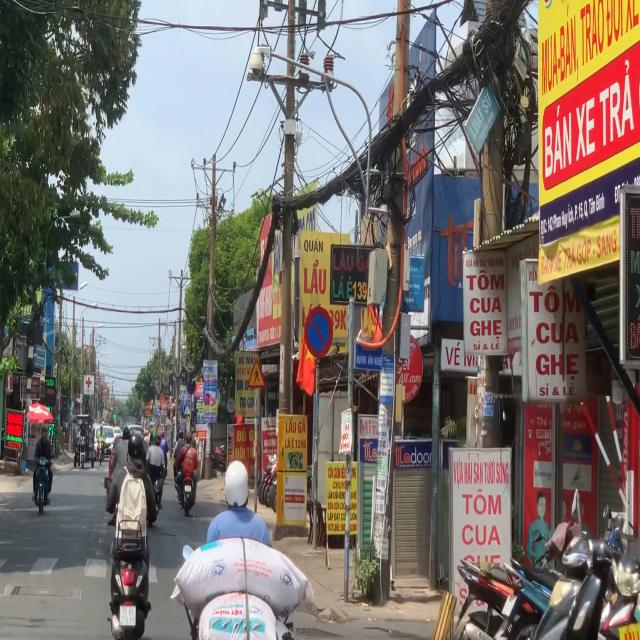Cam do: (304, 306, 333, 357)
Nguoi di bo cat ngang: (247, 357, 266, 387)
